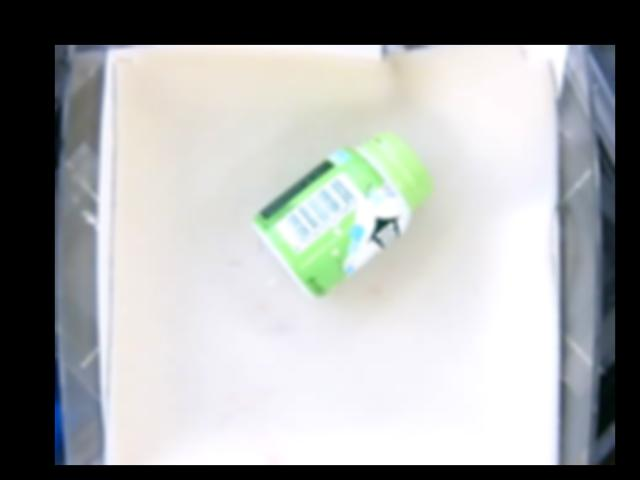Bottle: (252, 130, 433, 301)
